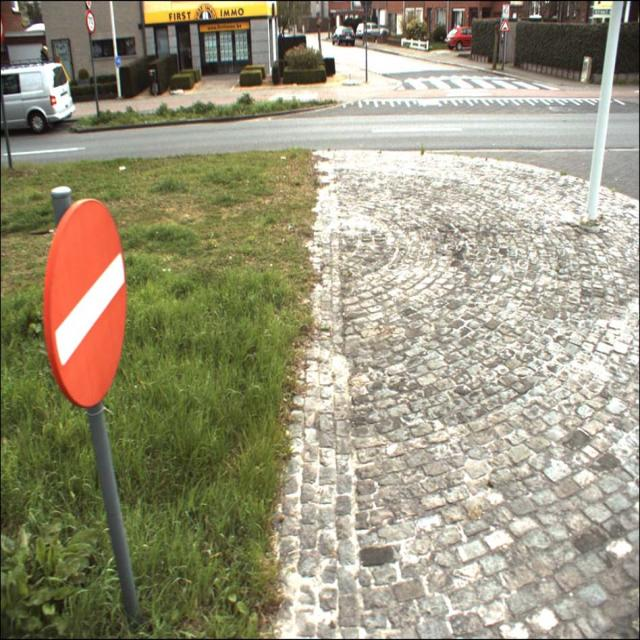girisyok: (42, 196, 127, 407)
